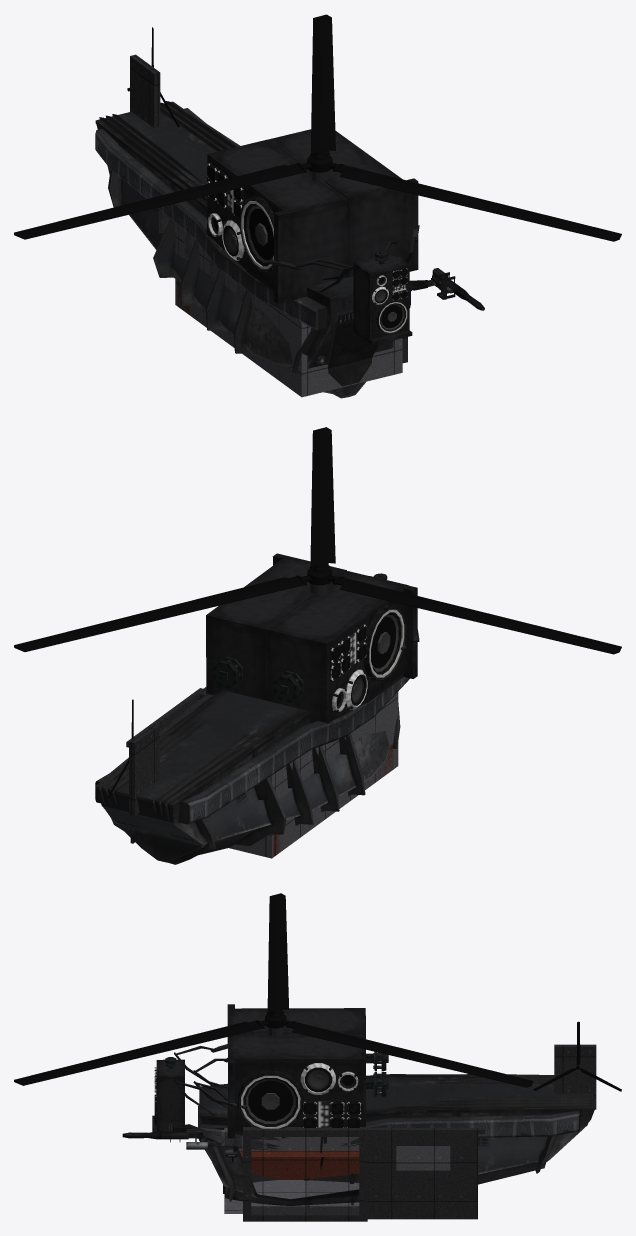
The model's file is speakerheli.glb.
3 renders of one model, top to bottom at view 1: azimuth 30°, elevation 25°; view 2: azimuth 150°, elevation 25°; view 3: azimuth 270°, elevation 25°, orthographic. The views are drawn at different scales.
Visible parts, largest first — view 1: Cabin, Body, Rotor_Main; view 2: Cabin, Body, Rotor_Main; view 3: Cabin, Body, Door, Rotor_Main, Rotor_Tail.
Boxes of the visible parts, x1,y1,x2,y2 form: Cabin: [95, 101, 484, 398]; Body: [130, 54, 418, 345]; Rotor_Main: [14, 14, 621, 241]; Cabin: [95, 629, 419, 864]; Body: [129, 553, 417, 821]; Rotor_Main: [14, 427, 621, 654]; Cabin: [122, 1044, 596, 1221]; Body: [152, 1004, 596, 1138]; Door: [366, 1134, 477, 1219]; Rotor_Main: [14, 893, 533, 1087]; Rotor_Tail: [533, 1021, 621, 1091].
Size of the model in its own units: 7.6 by 3.65 by 10.13.
7 materials, 6 textured.
